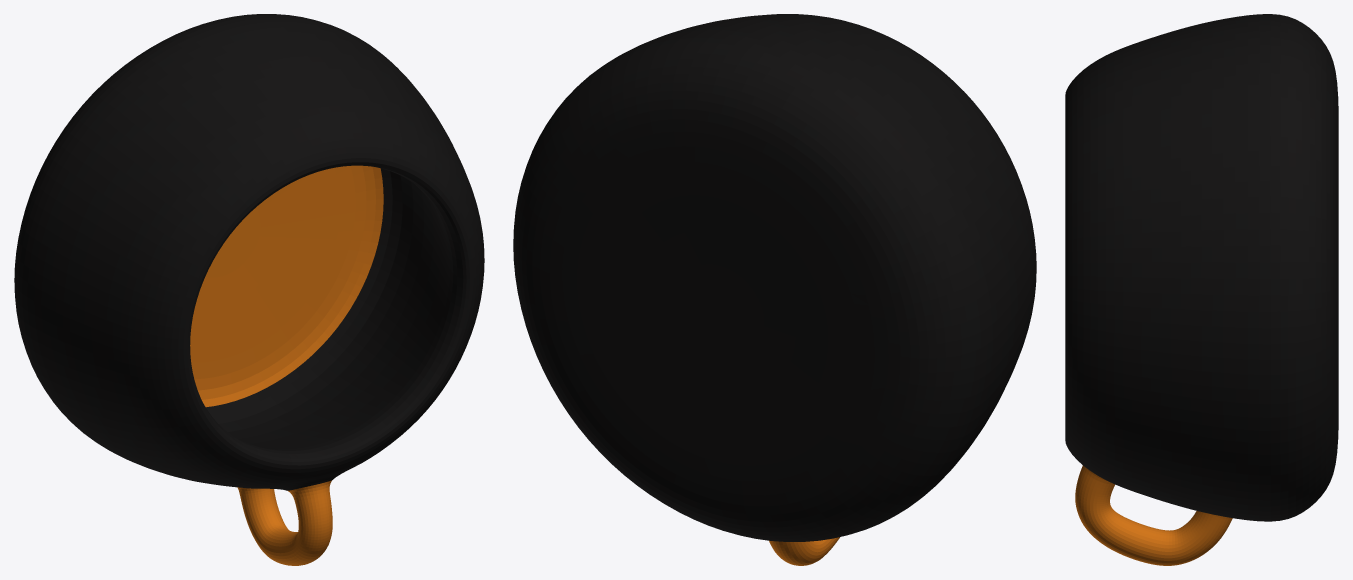
3 views of the same model, side by side, from view 1: azimuth 30°, elevation 25°; view 2: azimuth 150°, elevation 25°; view 3: azimuth 270°, elevation 25° (orthographic). The views are drawn at different scales.
Parts seen in each view (by area): view 1: geometry_0; view 2: geometry_0; view 3: geometry_0.
Part boxes in pixels (box(x1,y1,x2,y2)): geometry_0: box(14, 14, 484, 565); geometry_0: box(513, 14, 1036, 565); geometry_0: box(1065, 14, 1338, 565).
Size of the model in its own units: 0.1179 by 0.1349 by 0.0635.
1 material, 1 textured.
